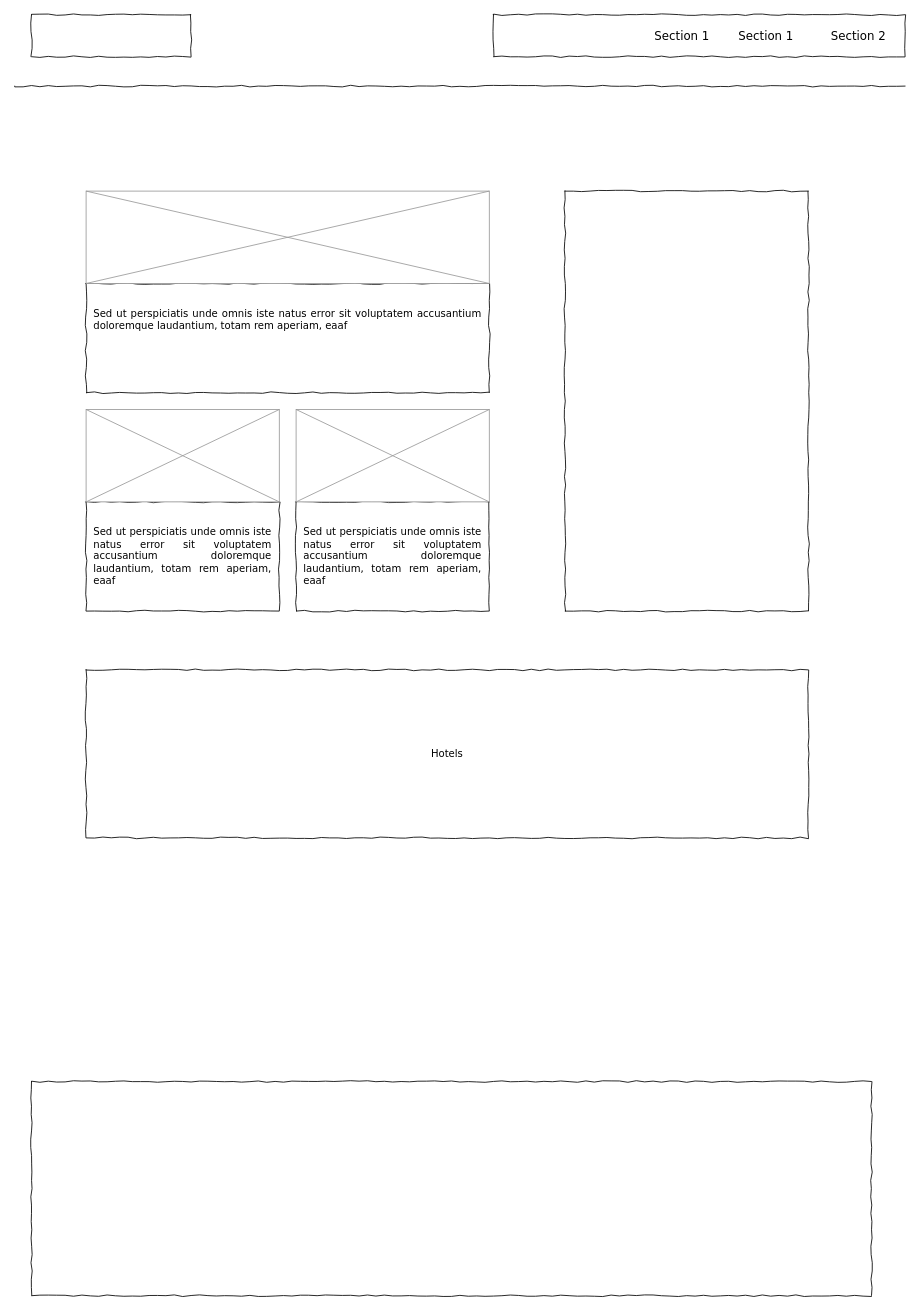
Image size: 920x1310. Some labels were removed from this diagram. The centre of each missing label's shape, as x and y in pixels:
"Family Pass" belongs at point 287,237.
"LOGO" belongs at point 111,35.
